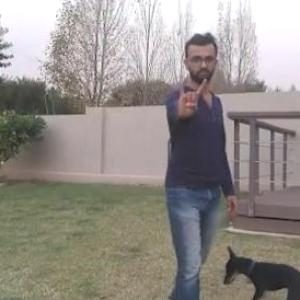takeoff-hand: (168, 67, 214, 120)
